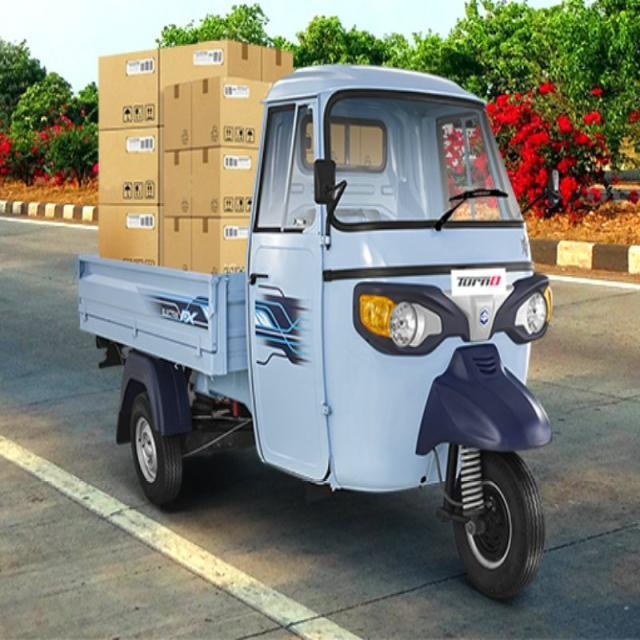autorickshaw: (78, 67, 552, 598)
